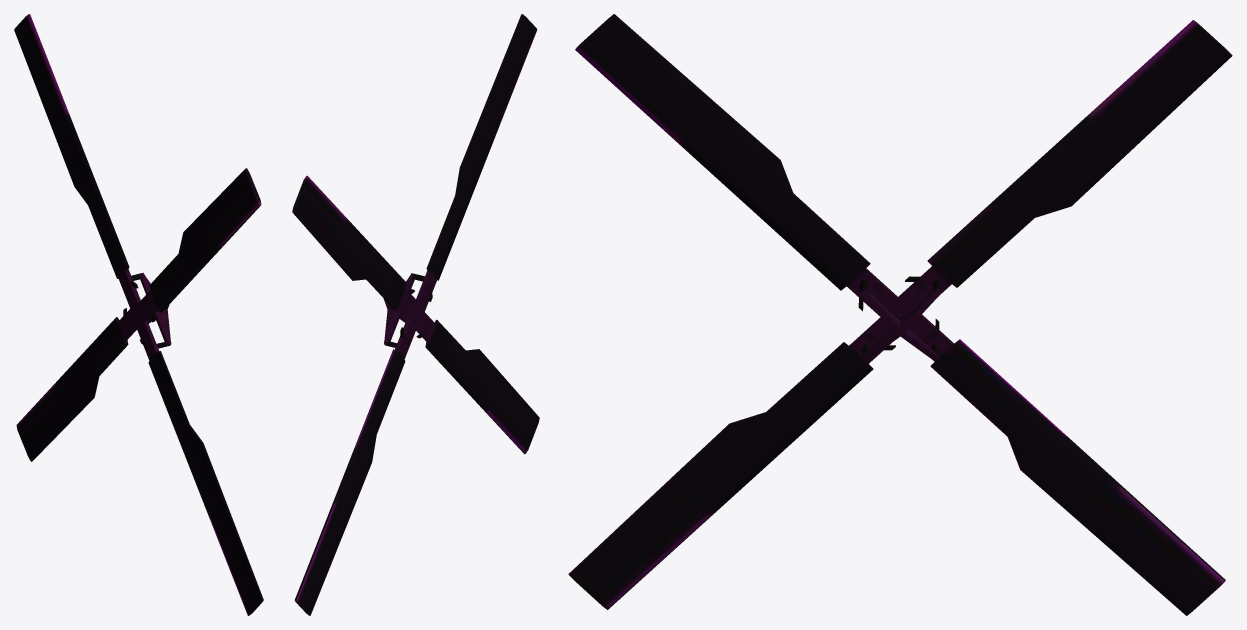
Rendered from heli_uh60_tail.glb.
3 views of the same model, side by side, from view 1: azimuth 30°, elevation 25°; view 2: azimuth 150°, elevation 25°; view 3: azimuth 270°, elevation 25° (orthographic). The views are drawn at different scales.
Parts seen in each view (by area): view 1: heli_uh60_tail; view 2: heli_uh60_tail; view 3: heli_uh60_tail.
Boxes of the visible parts, x1,y1,x2,y2 form: heli_uh60_tail: (14,14,263,615); heli_uh60_tail: (292,14,539,615); heli_uh60_tail: (568,14,1232,615).
Size of the model in its own units: 0.141 by 2.05 by 2.05.
Materials: 1 (1 with a texture image).
